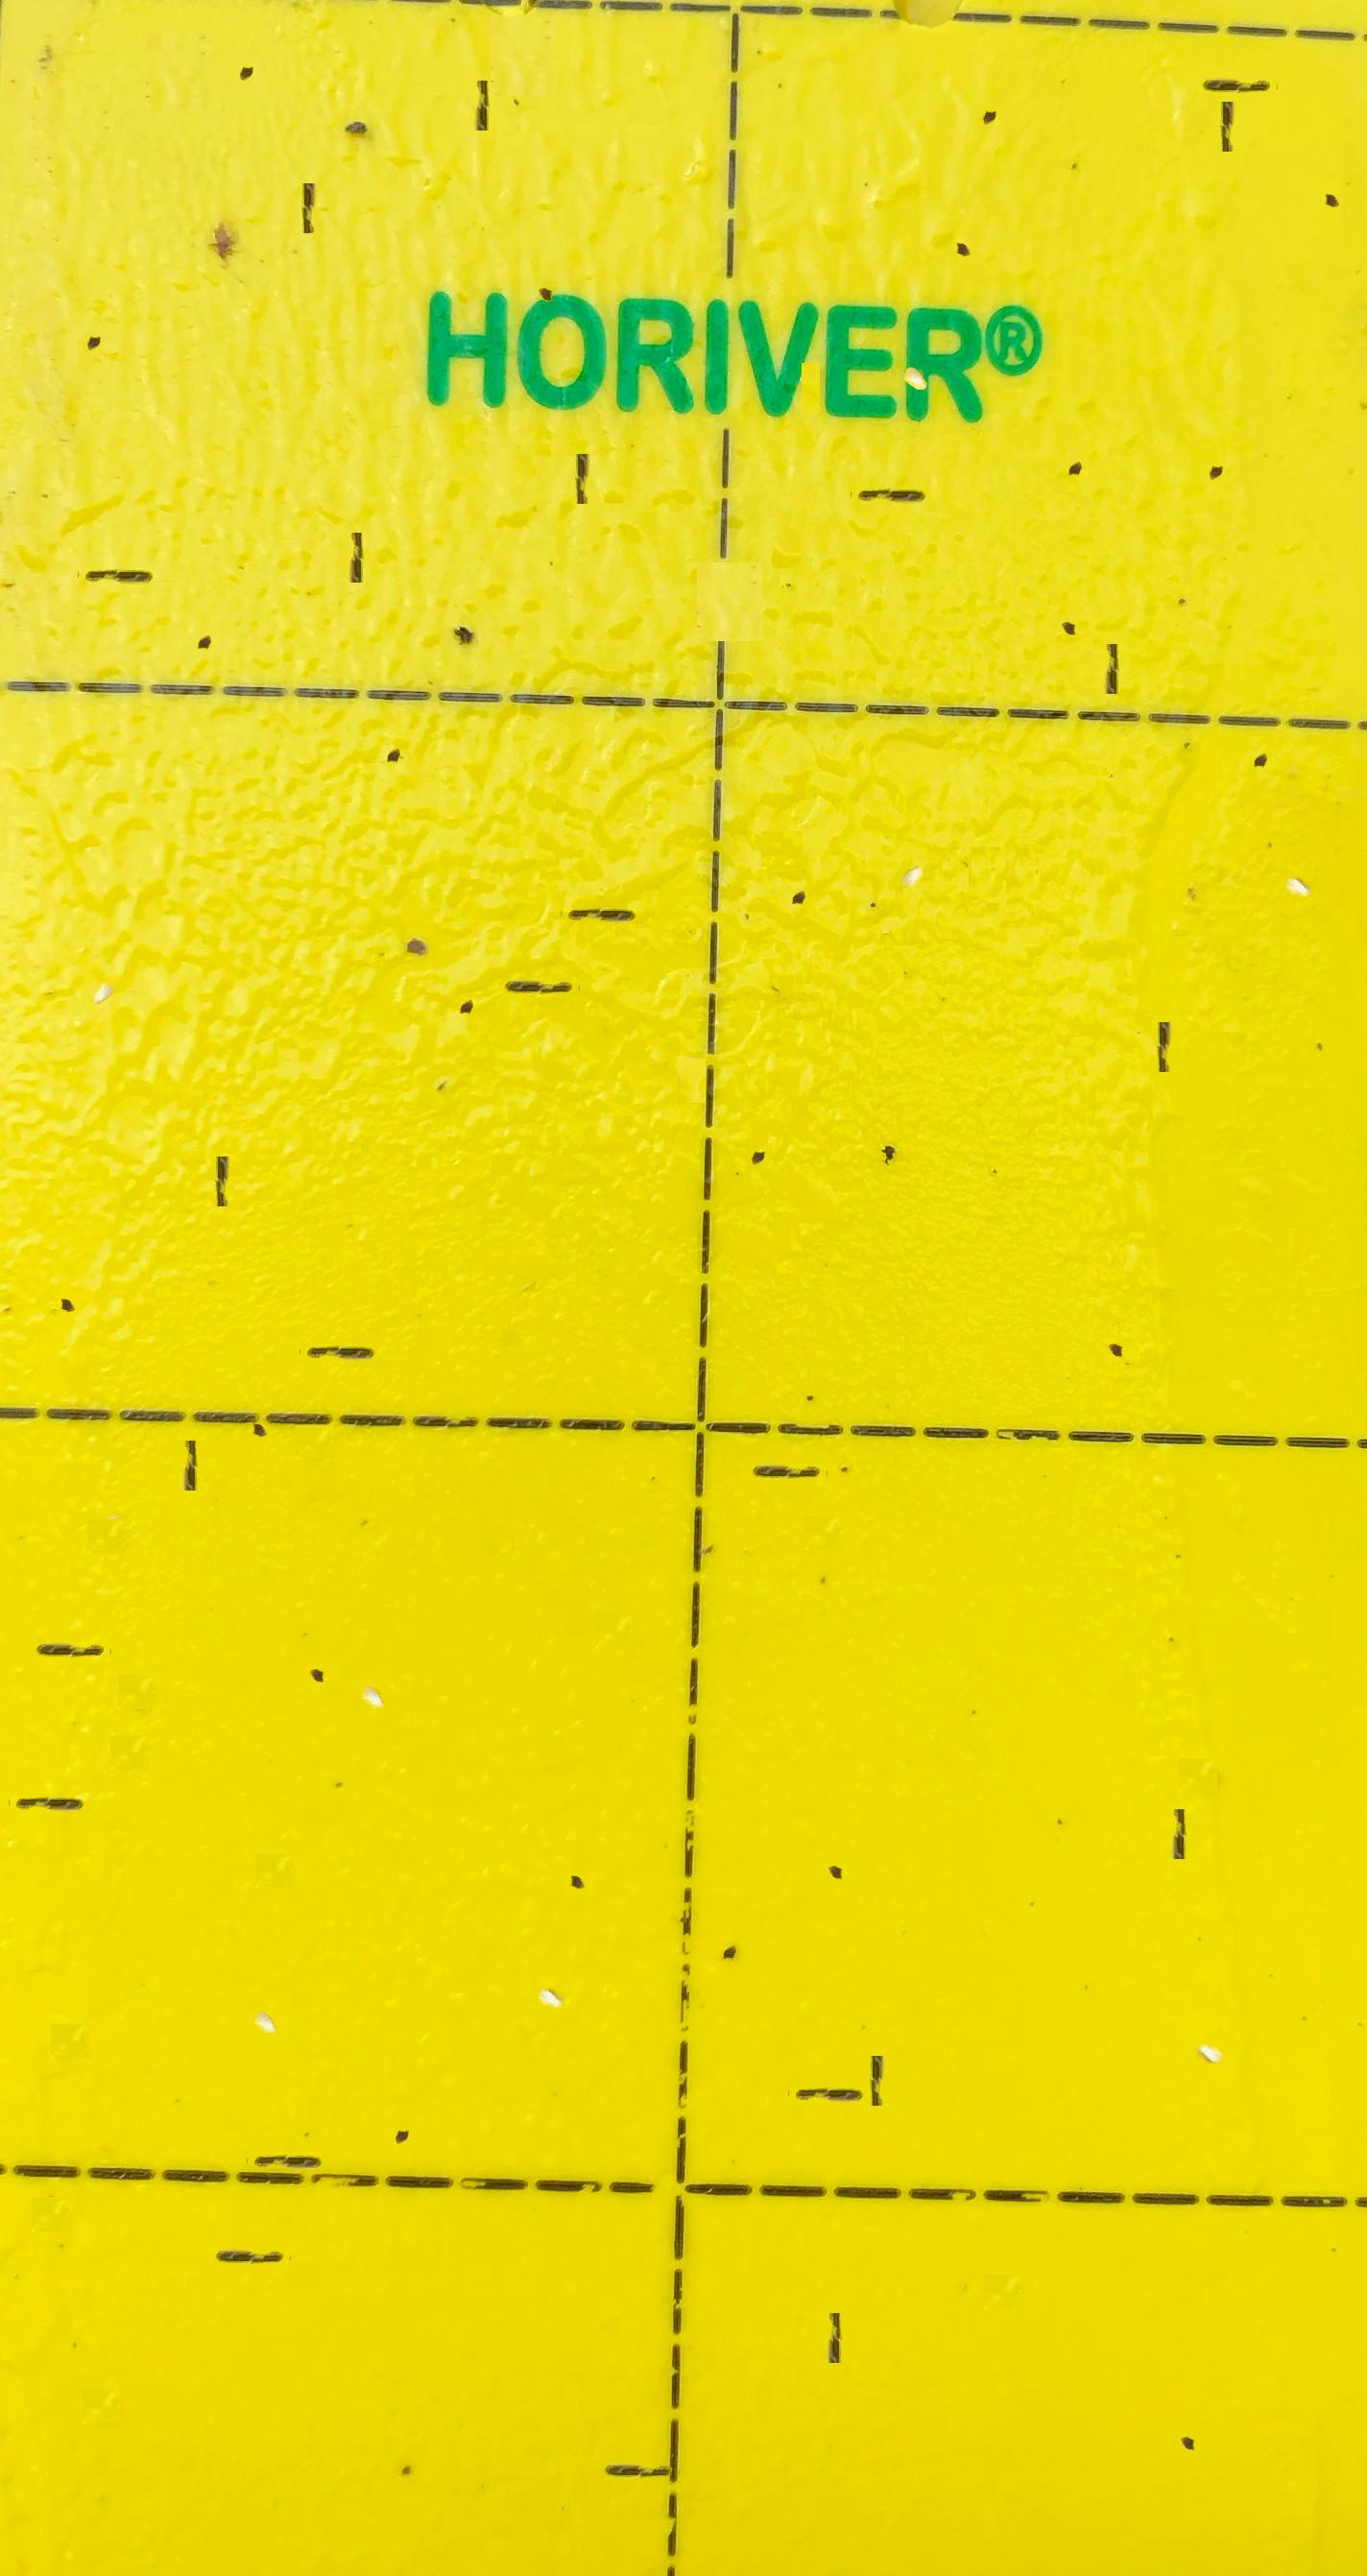white_fly: (527, 1932, 569, 1976), (82, 927, 124, 971), (1191, 1985, 1234, 2029), (1275, 821, 1318, 865), (893, 313, 936, 356), (244, 1958, 286, 2000), (351, 1632, 394, 1675), (891, 813, 932, 855)
